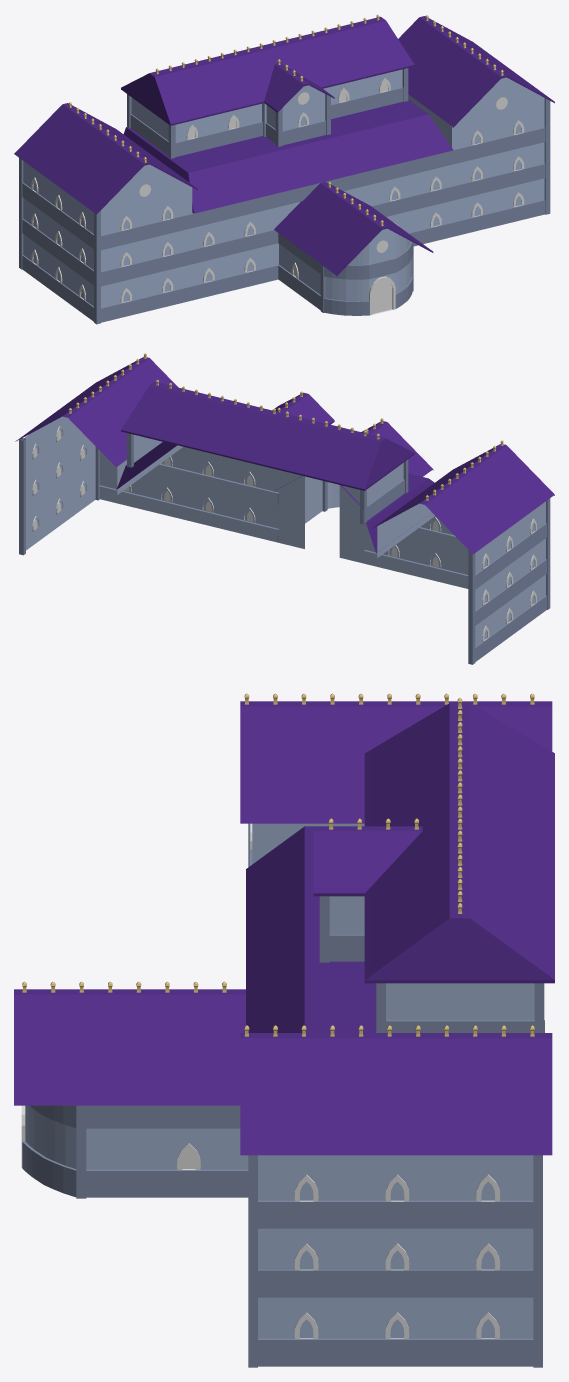
File: AcademiaExterior.fbx
The picture shows the model from 3 angles, top to bottom: view 1: azimuth 30°, elevation 25°; view 2: azimuth 150°, elevation 25°; view 3: azimuth 270°, elevation 25°; orthographic projection. The views are drawn at different scales.
Parts seen in each view (by area): view 1: edificio, Plane.008, Plane, Plane.002, edificio.011, Plane.007, edificio.007, edificio.006, edificio.004, edificio.010, Plane.001, edificio.013 (+17 smaller); view 2: edificio, Plane.002, Plane.008, Plane, Cube.002, edificio.009, edificio.008, edificio.012, Plane.001, edificio.004, Plane.007, Plane.005 (+8 smaller); view 3: Plane.008, Plane.002, edificio, Plane.007, Plane, edificio.010, edificio.004, edificio.008, edificio.009, edificio.012, Plane.005, Plane.001 (+11 smaller).
Boxes of the visible parts, x1,y1,x2,y2 form: edificio: (23, 77, 544, 307); Plane.008: (14, 16, 554, 214); Plane: (123, 99, 453, 213); Plane.002: (121, 16, 414, 125); edificio.011: (101, 127, 545, 250); Plane.007: (274, 182, 433, 276); edificio.007: (101, 163, 545, 286); edificio.006: (101, 200, 545, 322); edificio.004: (279, 228, 411, 301); edificio.010: (278, 233, 412, 315); Plane.001: (131, 69, 402, 142); edificio.013: (175, 87, 403, 156); edificio: (22, 416, 545, 646); Plane.002: (121, 382, 414, 490); Plane.008: (15, 357, 554, 554); Plane: (116, 442, 434, 553); Cube.002: (19, 438, 475, 664); edificio.009: (31, 451, 546, 625); edificio.008: (45, 488, 546, 661); edificio.012: (27, 428, 546, 589); Plane.001: (134, 435, 403, 505); edificio.004: (305, 476, 339, 523); Plane.007: (273, 421, 433, 505); Plane.005: (272, 392, 334, 424); Plane.008: (240, 701, 552, 1155); Plane.002: (364, 703, 554, 983); edificio: (252, 823, 533, 1338); Plane.007: (14, 989, 245, 1105); Plane: (246, 826, 376, 1032); edificio.010: (22, 1105, 248, 1197); edificio.004: (25, 1105, 248, 1169); edificio.008: (258, 1338, 533, 1366); edificio.009: (258, 1269, 533, 1297); edificio.012: (258, 1200, 533, 1228); Plane.005: (313, 826, 422, 896); Plane.001: (386, 983, 534, 1020).
Bounding box in the file's own units: 5304 × 2065 × 2841.
